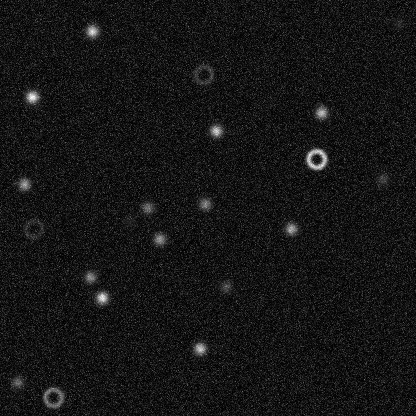Ring: (191, 62, 215, 86), (304, 146, 328, 170), (21, 216, 45, 240), (41, 385, 65, 409)
Spot: (191, 340, 207, 356), (24, 88, 40, 104), (374, 171, 390, 187), (207, 122, 223, 138), (283, 220, 299, 236), (9, 374, 25, 390), (139, 199, 155, 215), (82, 268, 98, 284), (121, 212, 137, 228), (196, 195, 212, 211), (217, 278, 233, 294), (16, 176, 32, 192), (84, 23, 100, 39), (151, 231, 167, 247), (94, 289, 110, 305), (313, 104, 329, 120), (390, 15, 406, 31)
